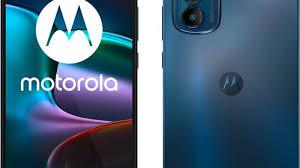Smartphone: (162, 0, 300, 168), (4, 0, 141, 168)
